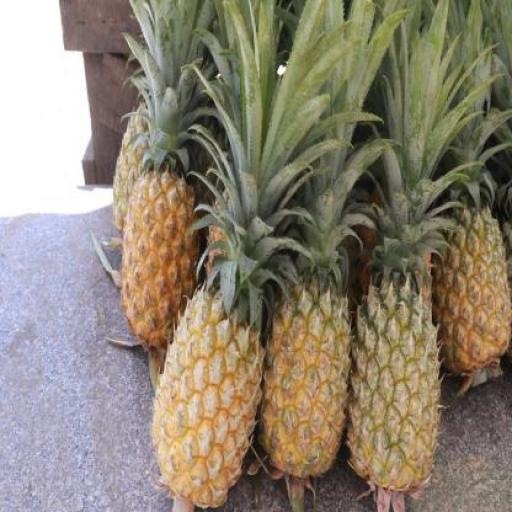------------------------------: (352, 279, 442, 484)
Pineapple - v8 v1: (155, 292, 261, 500), (264, 290, 350, 484), (122, 173, 199, 360), (435, 212, 508, 374)
